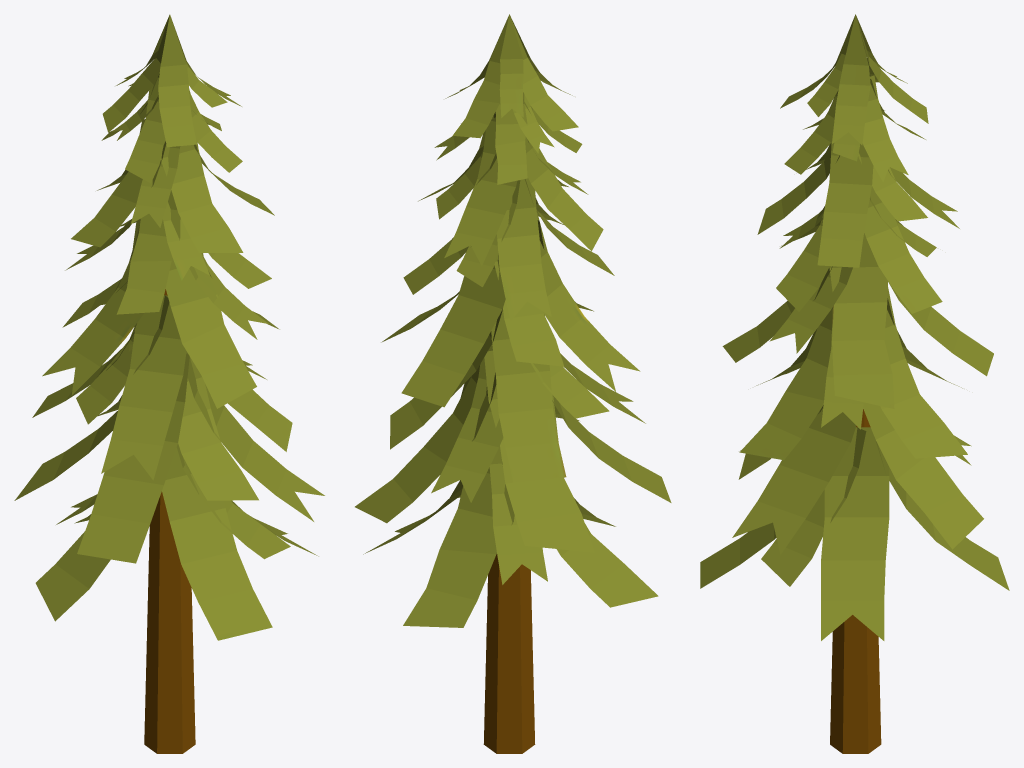
The model's file is kit-pine-tree.glb.
3 views of the same model, side by side, from view 1: azimuth 30°, elevation 25°; view 2: azimuth 150°, elevation 25°; view 3: azimuth 270°, elevation 25° (orthographic).
Visible parts, largest first — view 1: Cylinder.012; view 2: Cylinder.012; view 3: Cylinder.012.
Part boxes in pixels (bbox=[...]): Cylinder.012: bbox=[14, 14, 324, 753]; Cylinder.012: bbox=[355, 14, 671, 753]; Cylinder.012: bbox=[700, 14, 1009, 753].
Bounding box in the file's own units: 1.45 × 3.83 × 1.47.
Materials: 1 (1 with a texture image).
